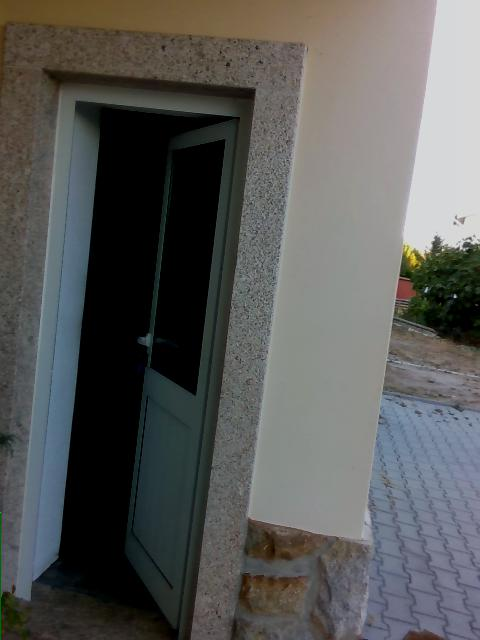semi_door: (13, 77, 257, 639)
